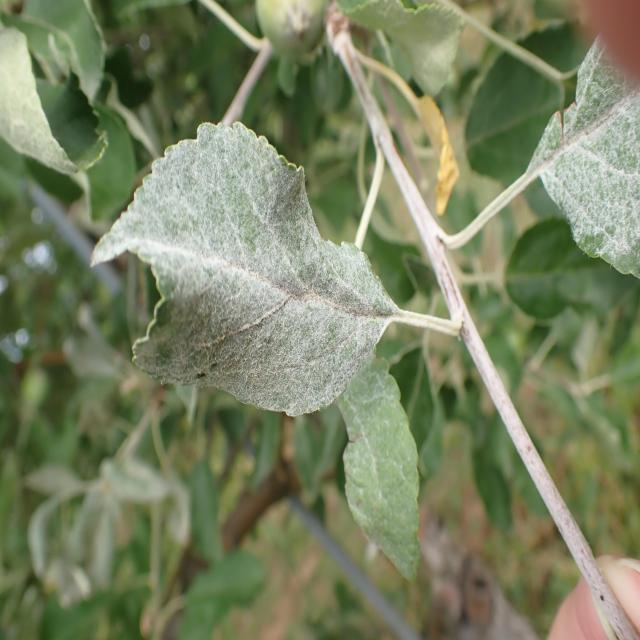healthy: (89, 120, 400, 419), (529, 33, 640, 278), (337, 355, 420, 582), (0, 21, 108, 176)
